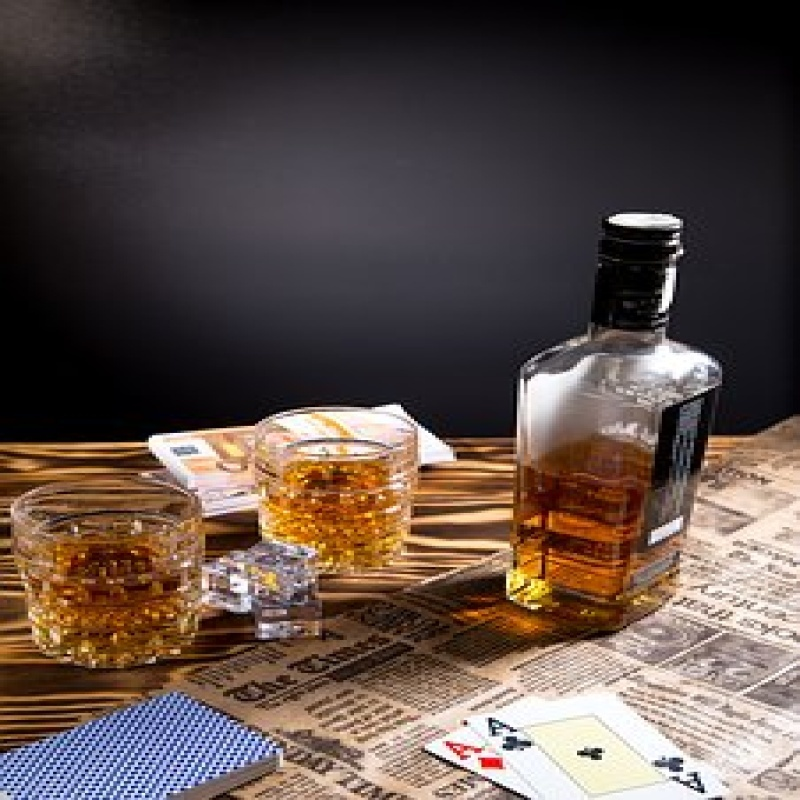whiskey: (12, 472, 210, 661), (258, 396, 419, 570)
